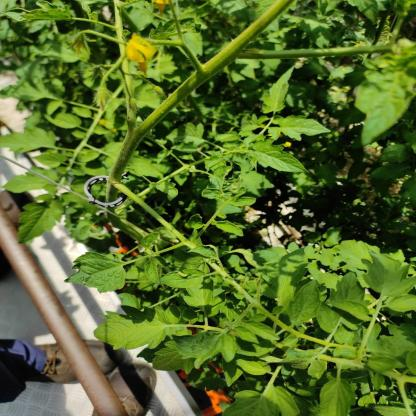T_L_H: (96, 314, 167, 349), (19, 195, 67, 243), (69, 255, 127, 293), (252, 140, 306, 173), (266, 117, 331, 139), (264, 71, 292, 113)
T_S_H: (113, 1, 294, 182)
